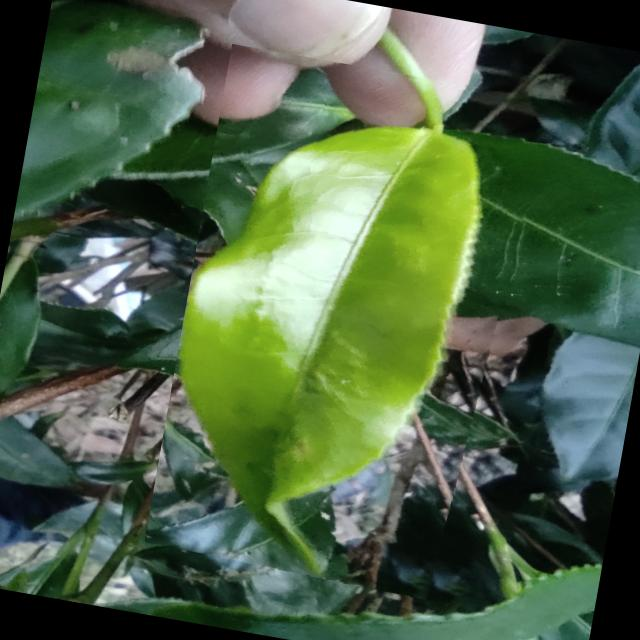Category C(4-7 days): (142, 44, 552, 606)
